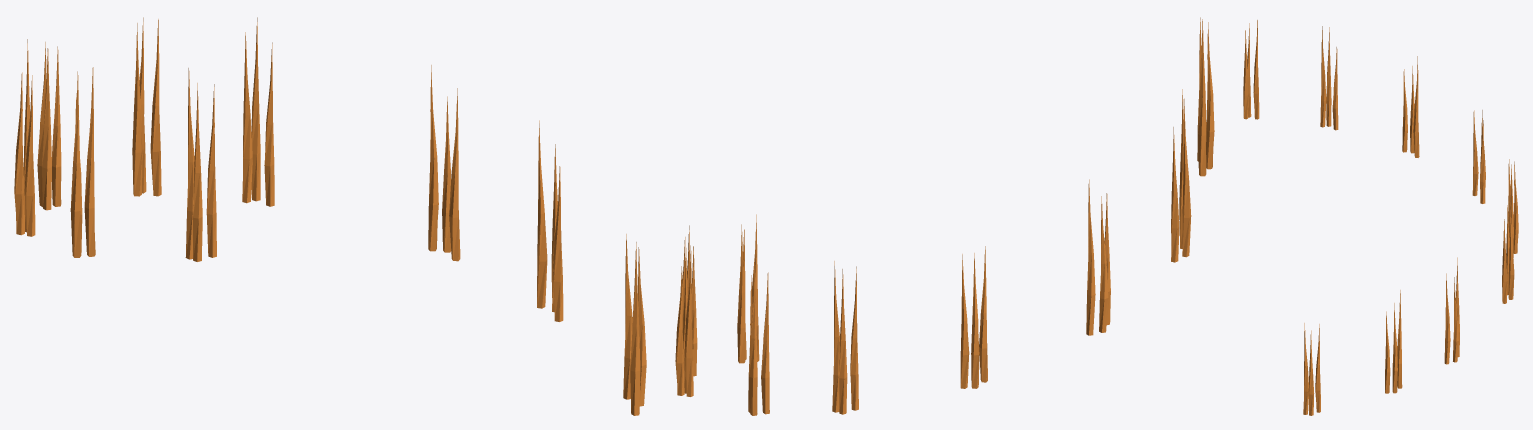
The model's file is Circle6Piece_Flares.obj.
3 renders of one model, left to right at view 1: azimuth 30°, elevation 25°; view 2: azimuth 150°, elevation 25°; view 3: azimuth 270°, elevation 25°, orthographic. The views are drawn at different scales.
Visible parts, largest first — view 1: Circle6Piece_Flares; view 2: Circle6Piece_Flares; view 3: Circle6Piece_Flares.
Boxes of the visible parts, x1=… form: Circle6Piece_Flares: x1=14, y1=17, x2=646, y2=415; Circle6Piece_Flares: x1=675, y1=17, x2=1214, y2=415; Circle6Piece_Flares: x1=1243, y1=20, x2=1518, y2=415.
Bounding box in the file's own units: 22.38 × 19.29 × 17.78.
Materials: 1 (1 with a texture image).
